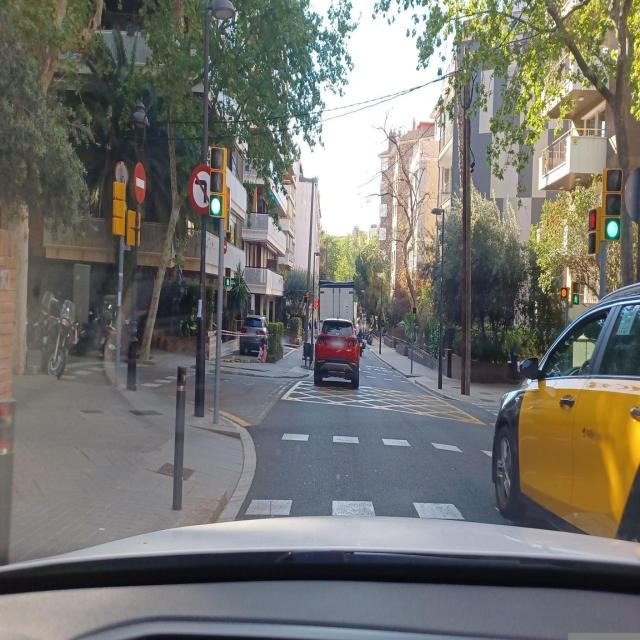bike: (69, 306, 113, 358)
car: (491, 276, 640, 560), (313, 320, 360, 388), (239, 315, 269, 356)
